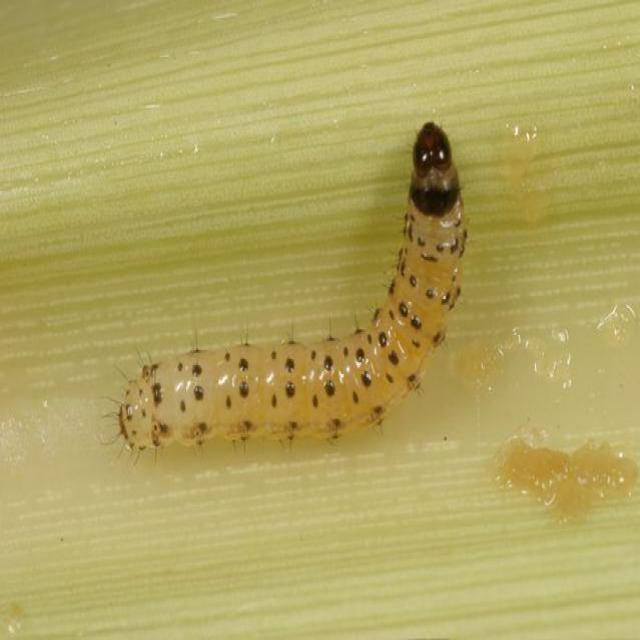cornborer-Larva-: (91, 106, 475, 491)
